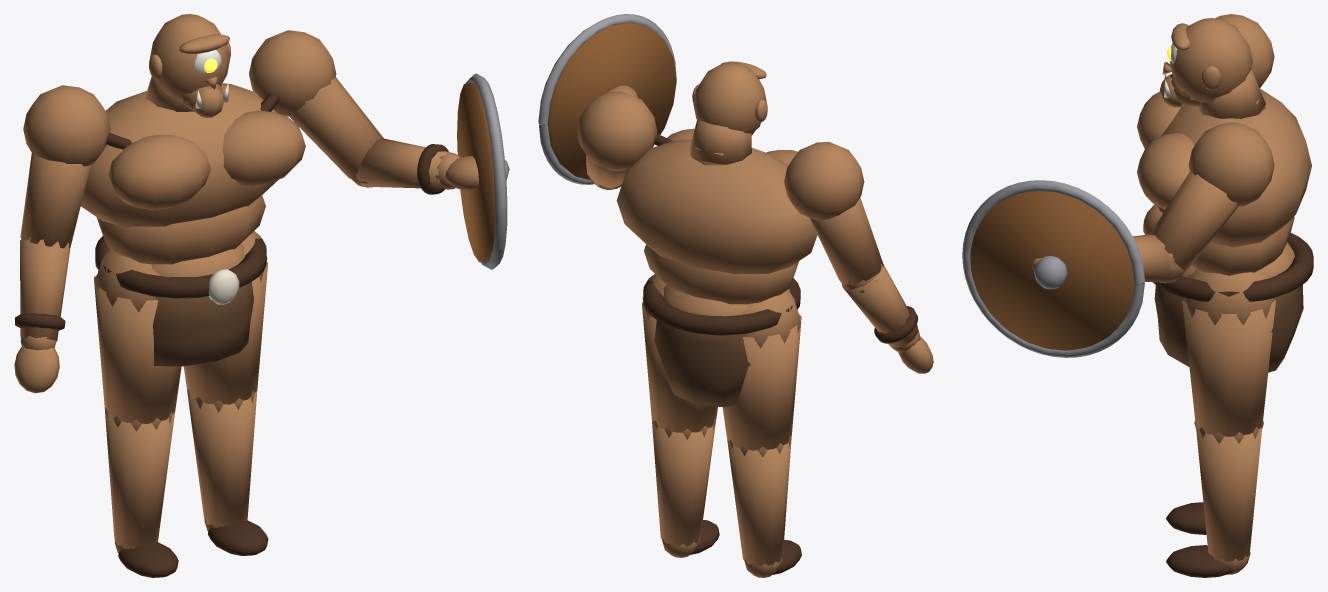
File: cyclops.glb
3 views of the same model, side by side, from view 1: azimuth 30°, elevation 25°; view 2: azimuth 150°, elevation 25°; view 3: azimuth 270°, elevation 25° (orthographic). The views are drawn at different scales.
Parts seen in each view (by area): view 1: torso, pelvis, upperarm_R, upperarm_L, thigh_R, hand_L, shin_R, shin_L, head, forearm_R, thigh_L, forearm_L (+3 smaller); view 2: torso, hand_L, pelvis, upperarm_R, thigh_R, shin_R, shin_L, upperarm_L, head, thigh_L, forearm_R, hand_R (+2 smaller); view 3: hand_L, torso, thigh_L, upperarm_L, pelvis, shin_L, head, upperarm_R, forearm_L, foot_L, foot_R.
Part boxes in pixels (x1,y1,x2,y2): torso: (81, 76, 305, 264); pelvis: (95, 236, 266, 366); upperarm_R: (20, 85, 110, 248); upperarm_L: (249, 30, 383, 185); thigh_R: (94, 248, 181, 431); hand_L: (445, 73, 509, 269); shin_R: (104, 408, 174, 552); shin_L: (187, 389, 257, 531); head: (149, 14, 230, 117); forearm_R: (15, 237, 70, 350); thigh_L: (183, 231, 267, 410); forearm_L: (351, 138, 460, 194); torso: (616, 120, 817, 304); hand_L: (538, 14, 676, 184); pelvis: (643, 278, 800, 407); upperarm_R: (784, 141, 883, 292); thigh_R: (722, 289, 801, 457); shin_R: (727, 436, 791, 577); shin_L: (652, 419, 716, 557); upperarm_L: (577, 91, 657, 189); head: (692, 61, 767, 135); thigh_L: (642, 274, 717, 436); forearm_R: (841, 264, 920, 352); hand_R: (898, 337, 933, 373); hand_L: (962, 180, 1145, 357); torso: (1137, 69, 1311, 275); thigh_L: (1182, 269, 1275, 443); upperarm_L: (1150, 122, 1274, 283); pelvis: (1152, 233, 1313, 372); shin_L: (1194, 420, 1263, 574); head: (1159, 18, 1252, 107); upperarm_R: (1215, 14, 1274, 88); forearm_L: (1133, 234, 1184, 282); foot_L: (1166, 545, 1232, 577); foot_R: (1166, 502, 1206, 534).
Size of the model in its own units: 3.5 by 4.08 by 2.45.
